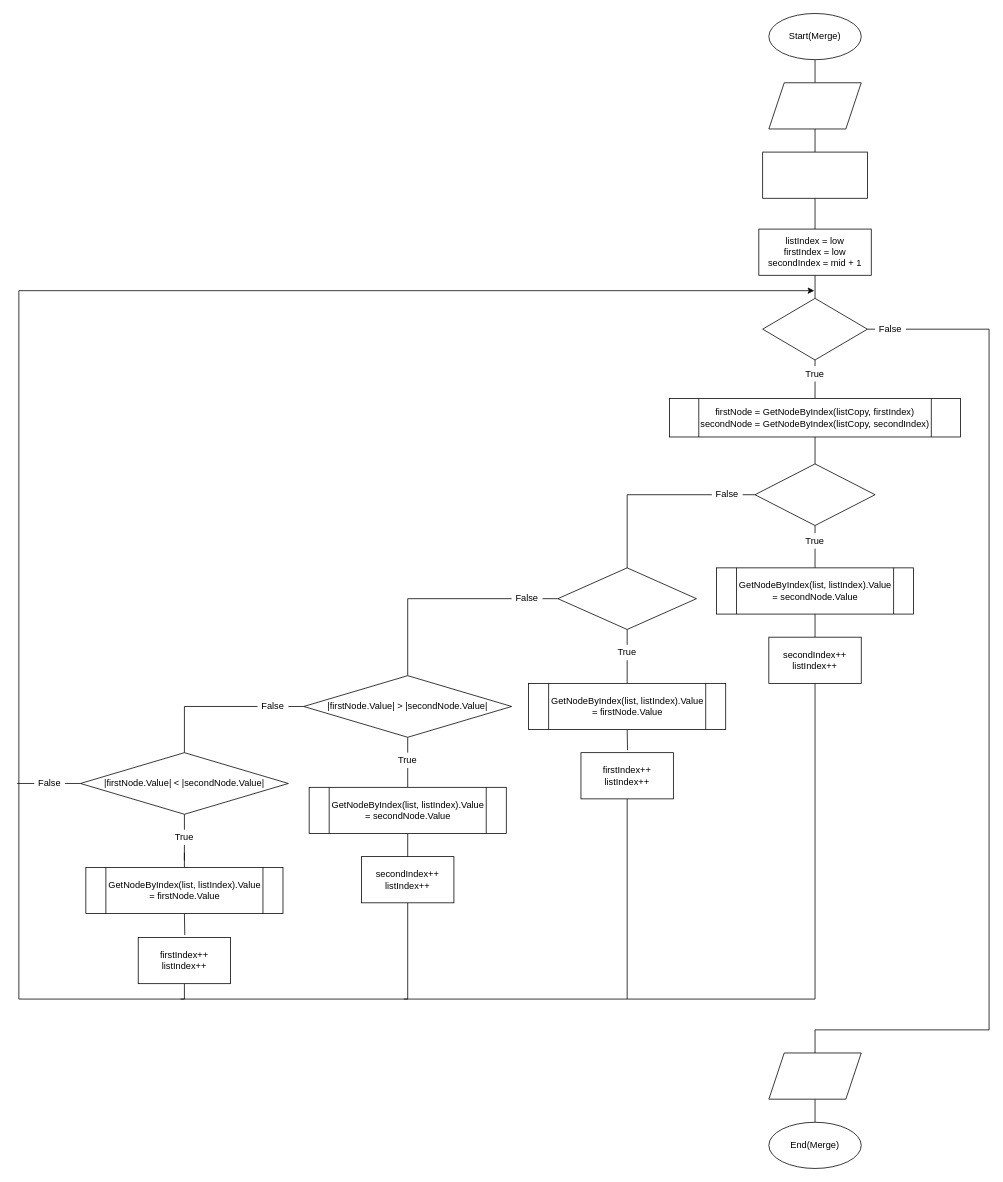
This 1003x1182 diagram has some shape labels left out. The box of each missing label's shape, as (x1, y1, x2, y2) in pixels:
COPY list TO listCopy: (762, 151, 867, 198)
firstIndex == mid + 1: (754, 463, 875, 526)
list: (768, 1052, 861, 1099)
list, low, high, mid: (768, 82, 861, 129)
listIndex != high + 1: (762, 298, 867, 360)
secondIndex == high + 1: (557, 567, 696, 629)
